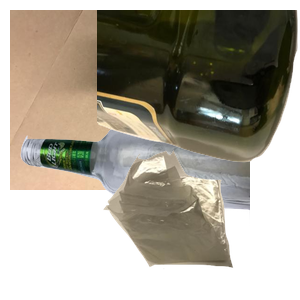cardboard: (10, 10, 250, 190)
glass: (18, 124, 258, 300)
plastic: (97, 10, 300, 165)
trash: (101, 148, 300, 300)
